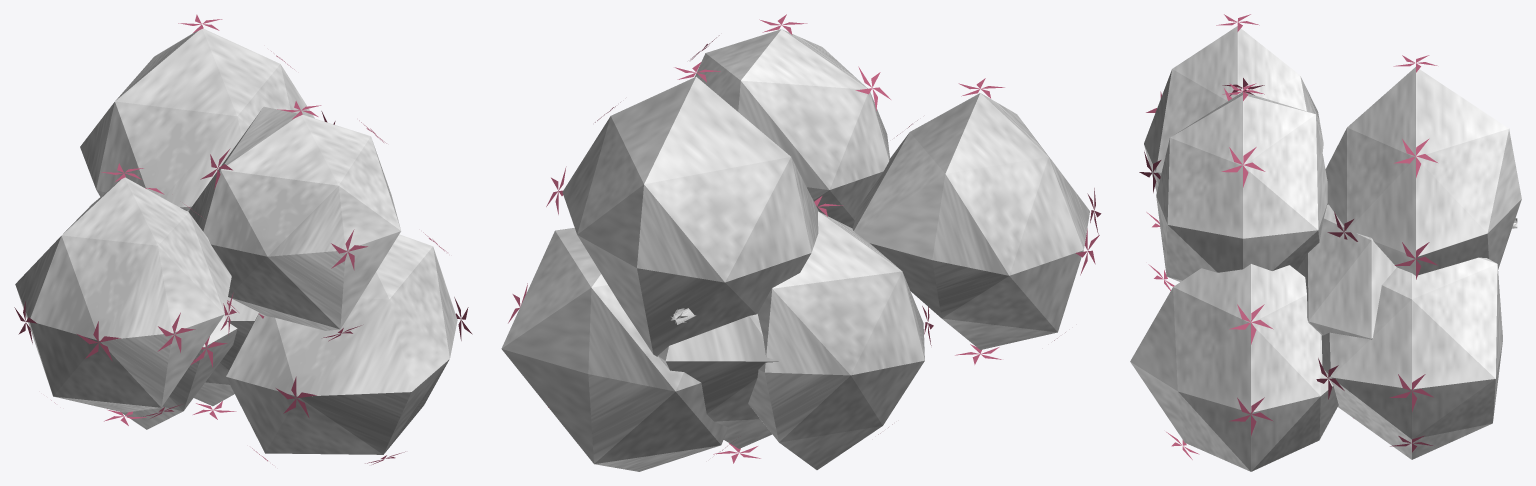
The model's file is SM_Plant_Oleander.obj.
The picture shows the model from 3 angles, left to right: view 1: azimuth 30°, elevation 25°; view 2: azimuth 150°, elevation 25°; view 3: azimuth 270°, elevation 25°; orthographic projection. The views are drawn at different scales.
Parts seen in each view (by area): view 1: SM_Plant_Oleander; view 2: SM_Plant_Oleander; view 3: SM_Plant_Oleander.
Boxes of the visible parts, <box> form: SM_Plant_Oleander: <box>14,14,472,464</box>; SM_Plant_Oleander: <box>501,14,1101,471</box>; SM_Plant_Oleander: <box>1130,14,1521,471</box>.
Size of the model in its own units: 187 by 154 by 147.
4 materials, 3 textured.
